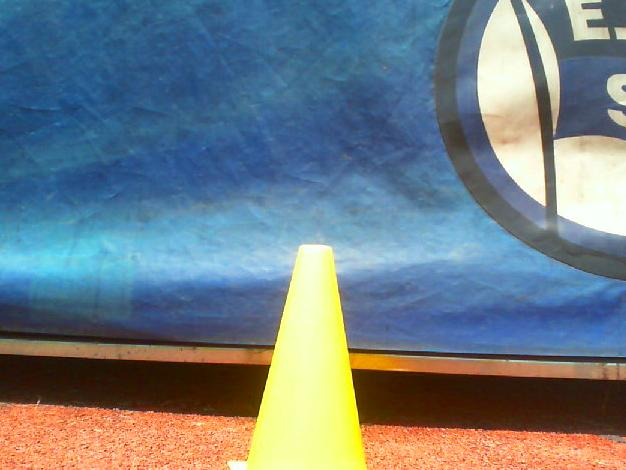0 cone: (227, 244, 373, 470)
